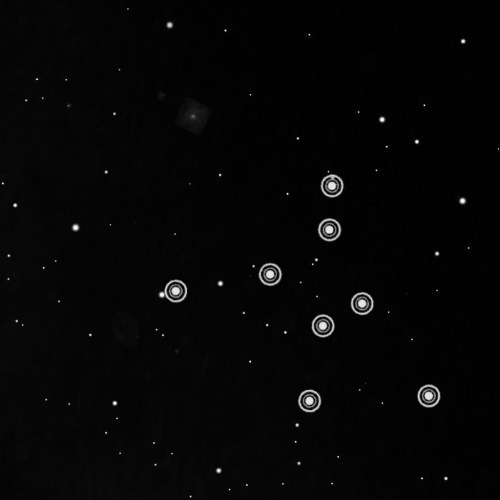hercules: (160, 171, 448, 418)
